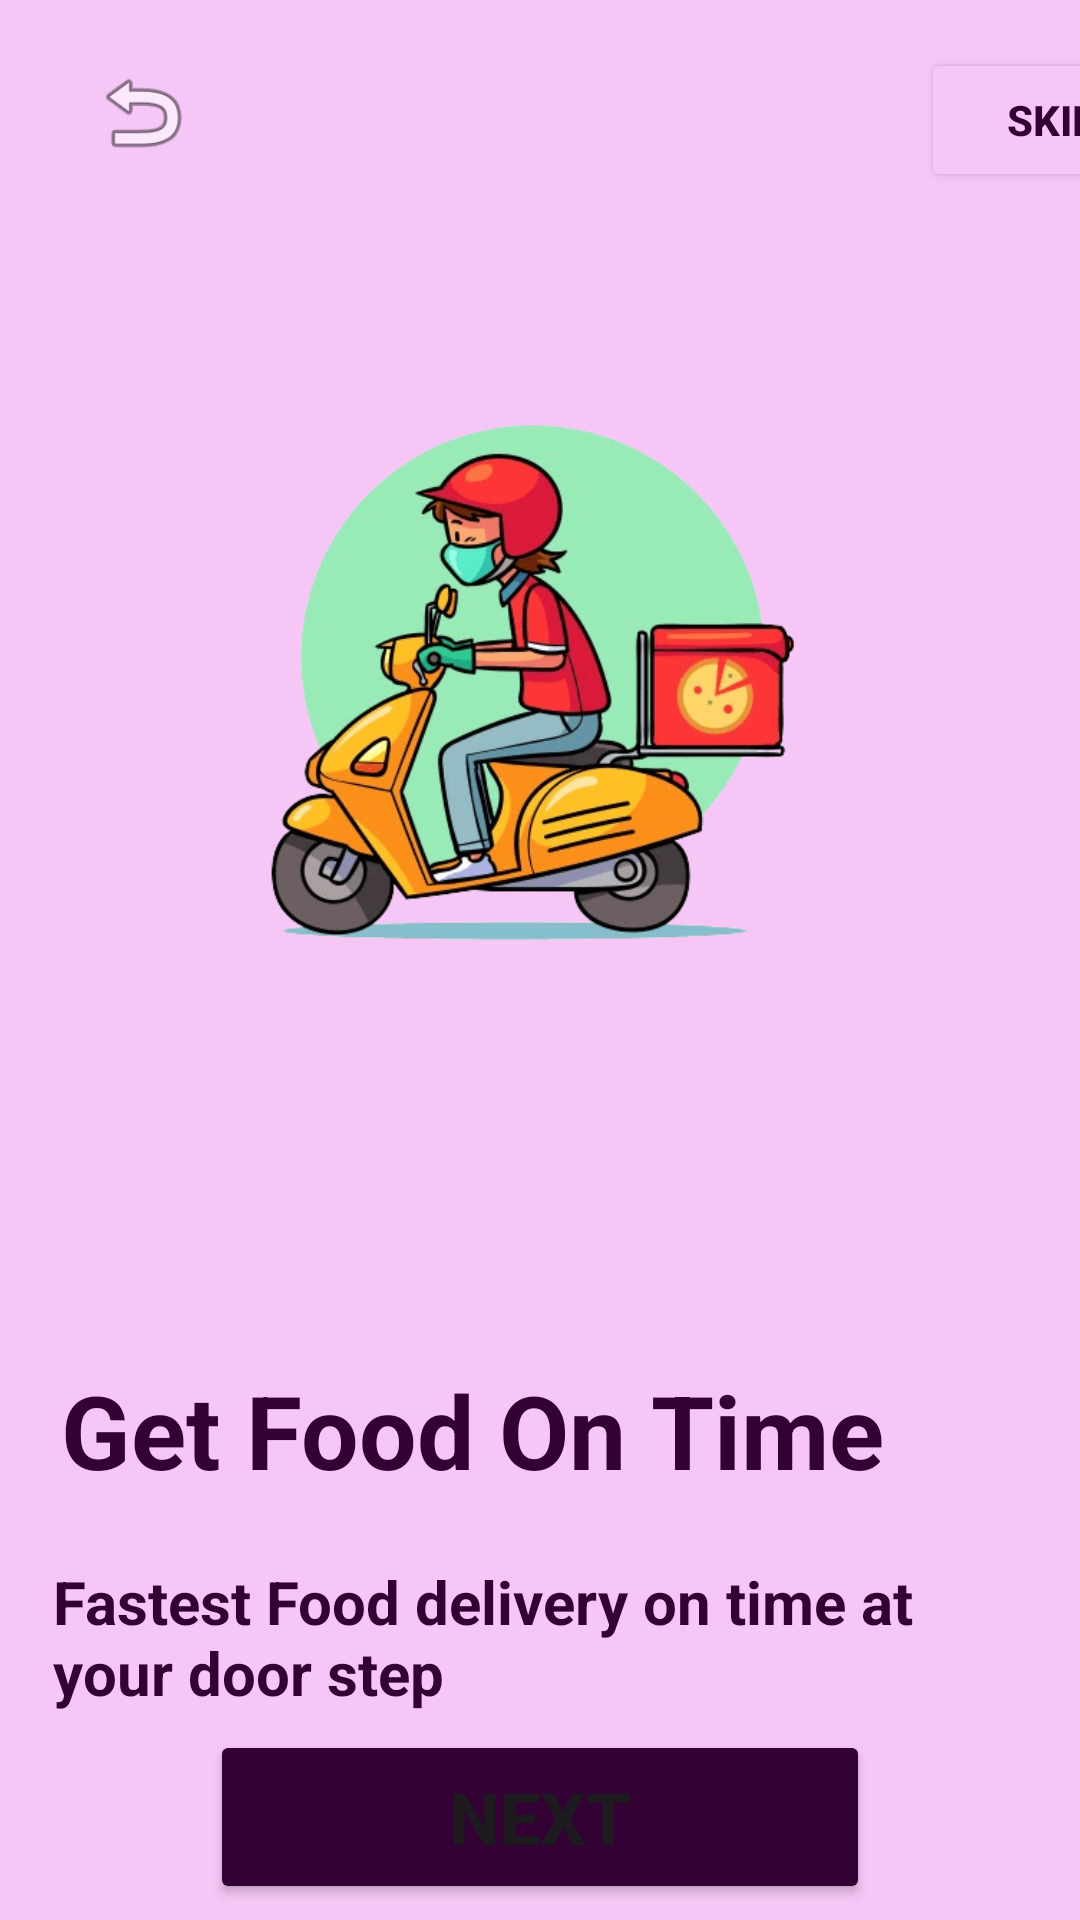

Where icons sit on this 1080 x 1920 app screen, as bbox=(x1, y1, x2, y2):
revert: bbox=(106, 79, 182, 148)
